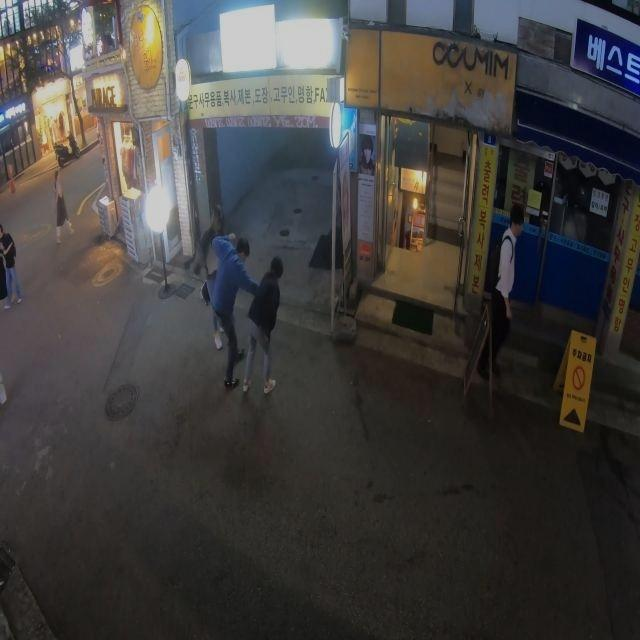fight: (202, 228, 286, 396)
non-fight: (49, 161, 71, 244)
